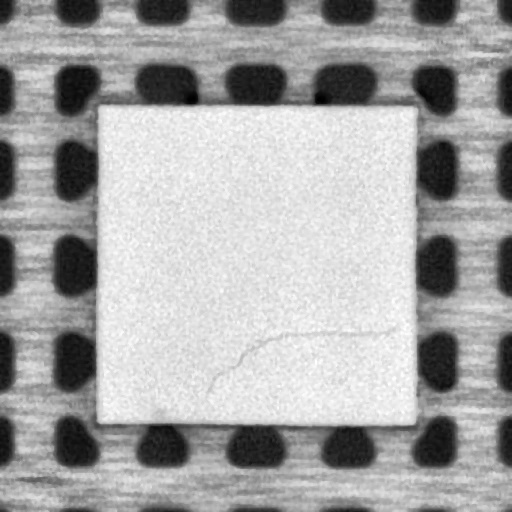DIE_CRACK: (206, 328, 391, 397)
